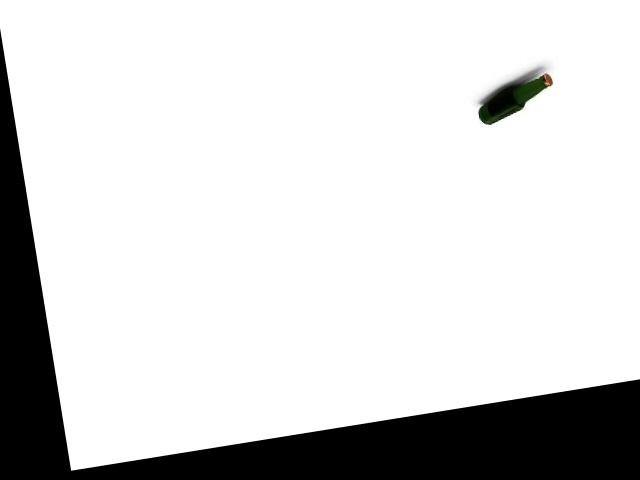beer: (473, 72, 557, 125)
